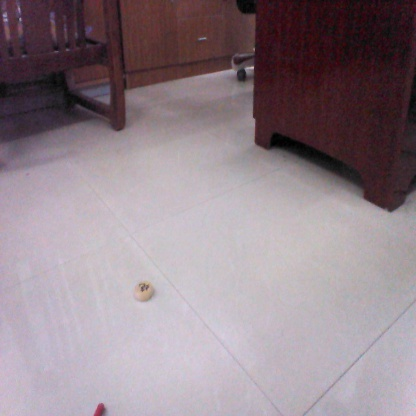chess: (133, 279, 156, 302)
